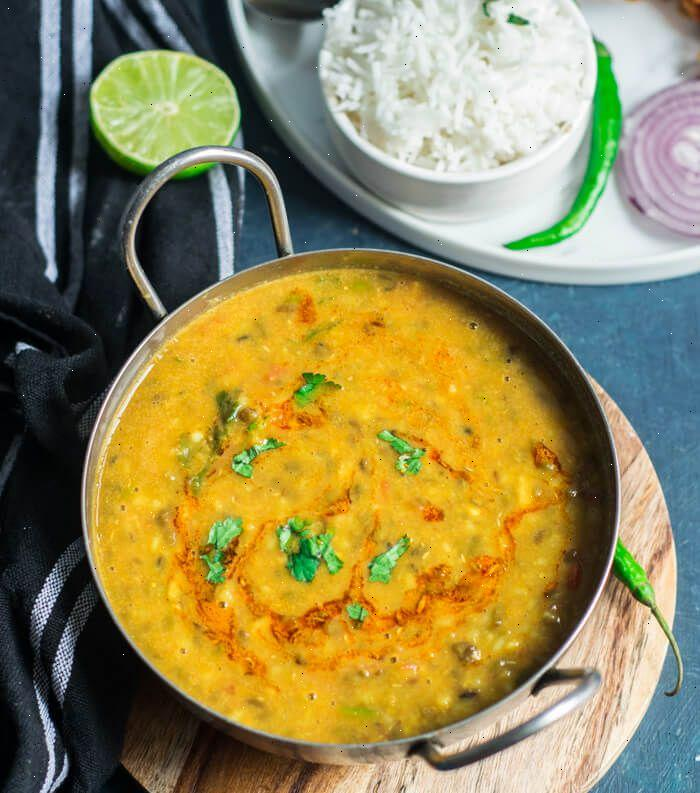daal: (106, 262, 619, 744)
rice: (306, 0, 588, 180)
